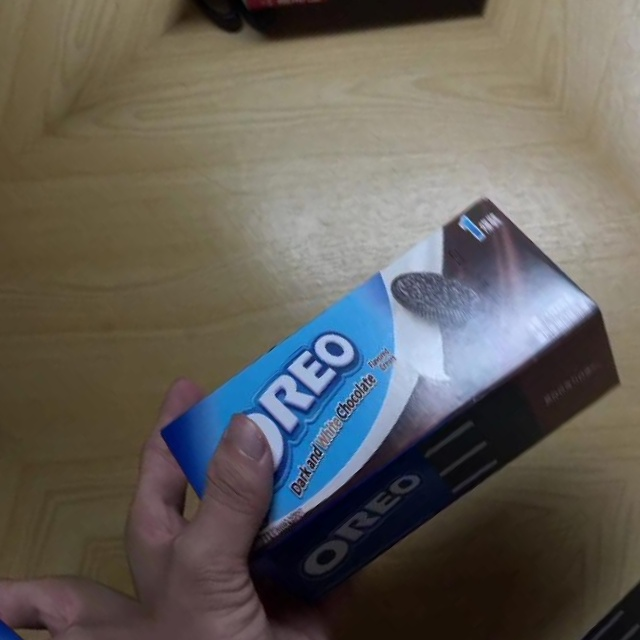Oreo: (143, 160, 640, 640)
